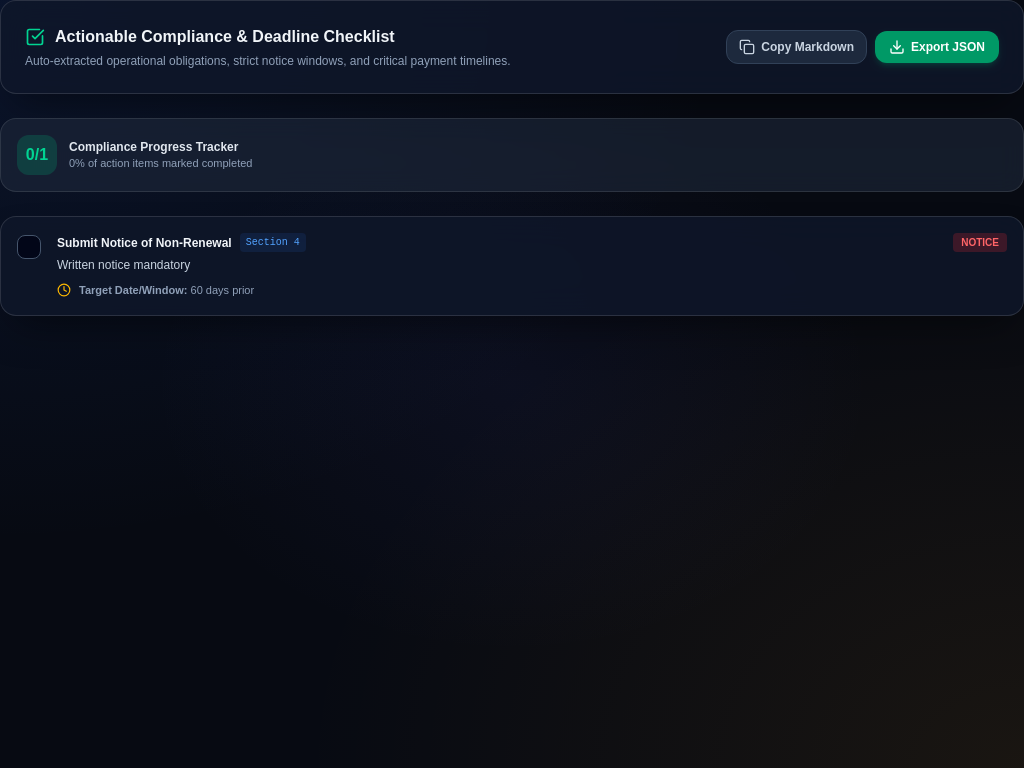
it: ChecklistTab Component › toggles item completion state when checkbox button is clicked
What coordinates should you click on to do the following:
click the checkbox
I would click on:
 (29, 247)
Its box is [17,235,41,259].
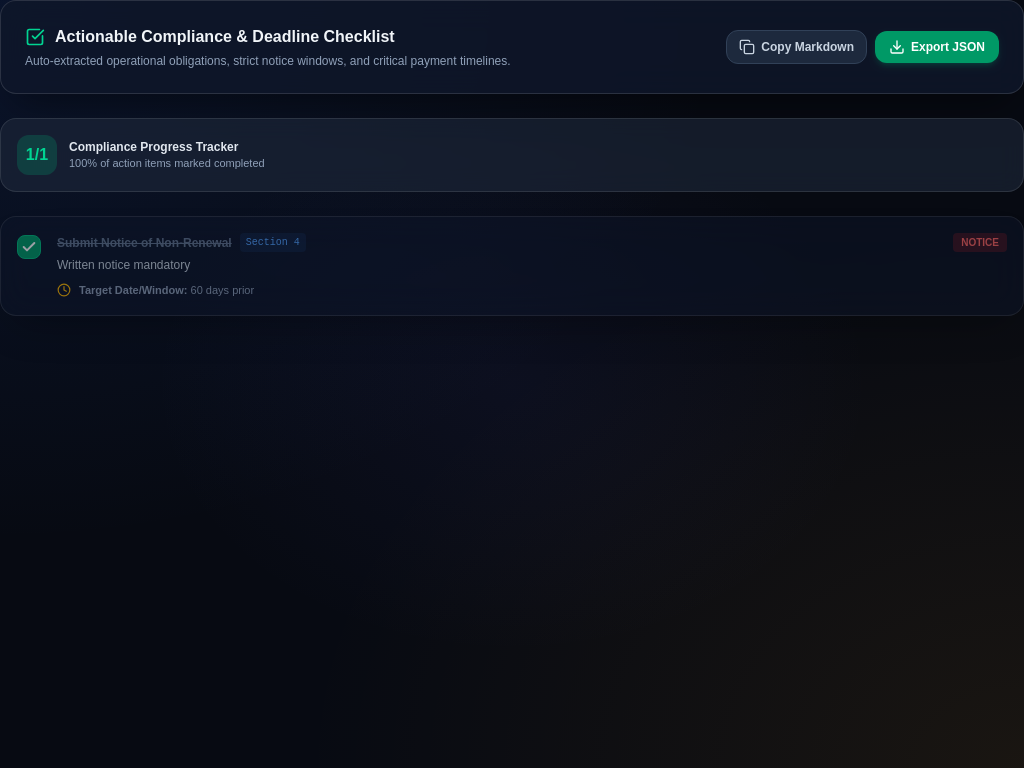
Now the text "1/1" is shown, box [17,135,57,175]
